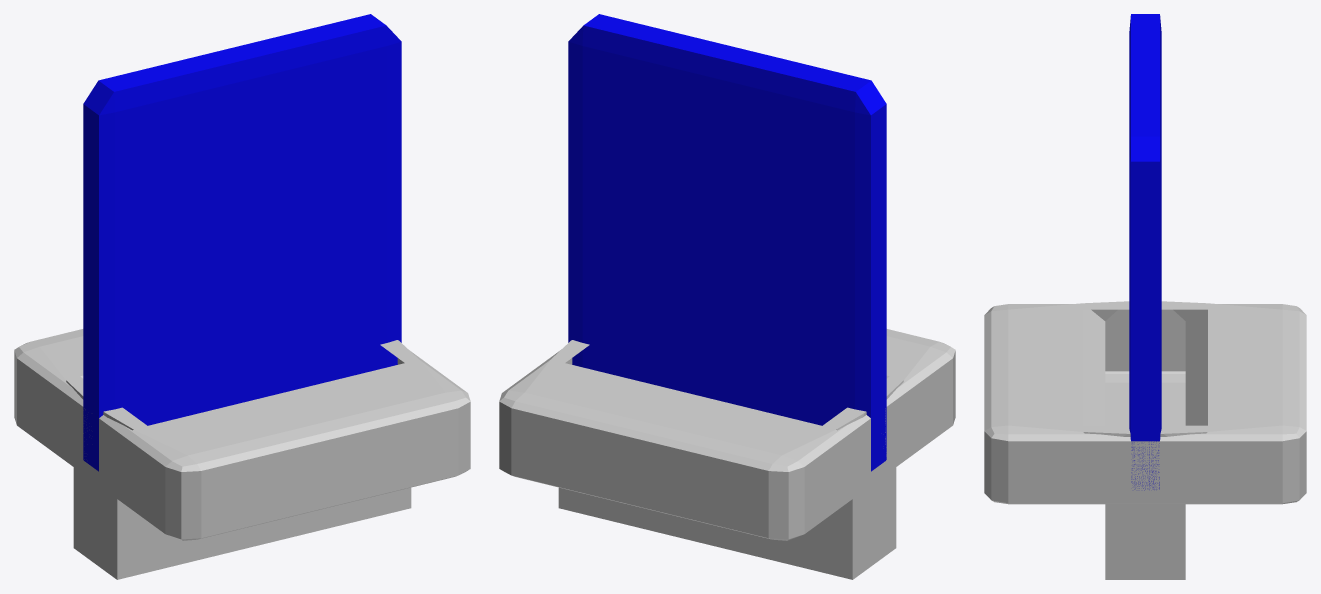
File: door.glb
3 renders of one model, left to right at view 1: azimuth 30°, elevation 25°; view 2: azimuth 150°, elevation 25°; view 3: azimuth 270°, elevation 25°, orthographic. The views are drawn at different scales.
Visible parts, largest first — view 1: door_panel, door; view 2: door_panel, door; view 3: door, door_panel.
Boxes of the visible parts, <box> form: door_panel: <box>83,14,401,471</box>; door: <box>14,329,470,579</box>; door_panel: <box>568,14,886,471</box>; door: <box>499,329,955,579</box>; door: <box>984,301,1306,579</box>; door_panel: <box>1129,14,1161,490</box>.
Size of the model in its own units: 2 by 3 by 2.
